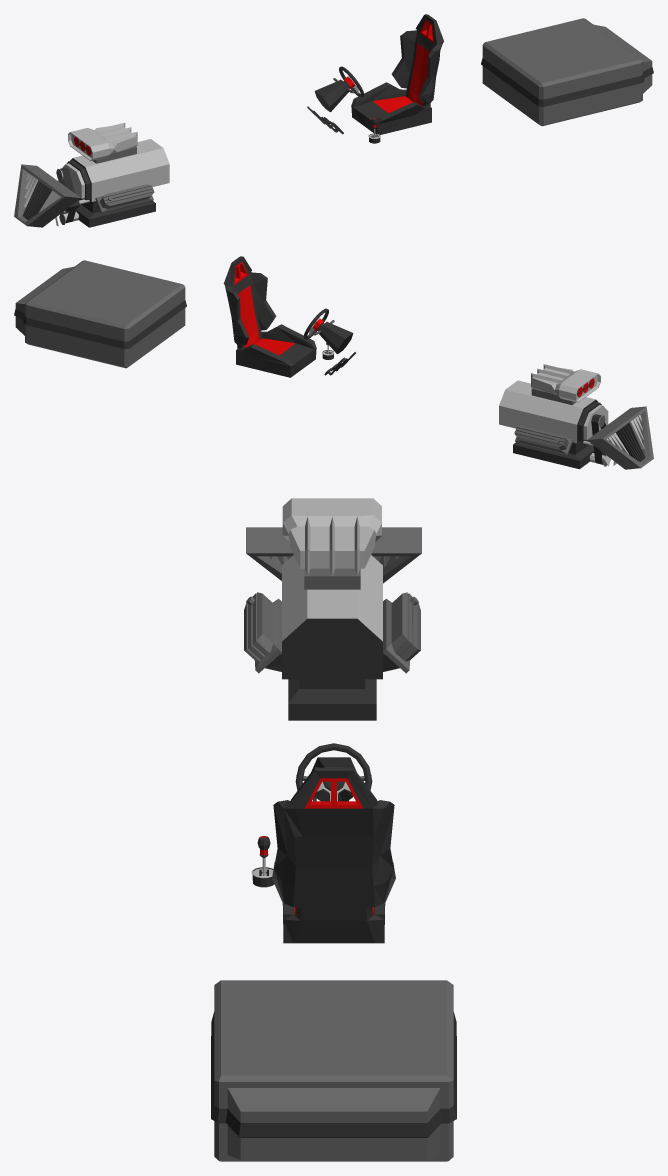
Rendered from car2_parts.obj.
3 renders of one model, top to bottom at view 1: azimuth 30°, elevation 25°; view 2: azimuth 150°, elevation 25°; view 3: azimuth 270°, elevation 25°, orthographic. The views are drawn at different scales.
Parts seen in each view (by area): view 1: tank, engine, seat, radiator, stacks, steering; view 2: tank, engine, seat, radiator, stacks, steering; view 3: tank, engine, seat, stacks, radiator, steering.
Boxes of the visible parts, x1=… form: tank: x1=481, y1=18, x2=653, y2=126; engine: x1=56, y1=139, x2=169, y2=227; seat: x1=351, y1=14, x2=443, y2=134; radiator: x1=14, y1=164, x2=80, y2=227; stacks: x1=68, y1=122, x2=137, y2=163; steering: x1=314, y1=66, x2=364, y2=111; tank: x1=14, y1=260, x2=186, y2=368; engine: x1=499, y1=380, x2=608, y2=469; seat: x1=223, y1=256, x2=316, y2=377; radiator: x1=587, y1=406, x2=653, y2=469; stacks: x1=531, y1=364, x2=600, y2=405; steering: x1=303, y1=308, x2=353, y2=354; tank: x1=211, y1=980, x2=456, y2=1161; engine: x1=244, y1=555, x2=420, y2=720; seat: x1=272, y1=767, x2=395, y2=943; stacks: x1=282, y1=498, x2=381, y2=589; radiator: x1=246, y1=527, x2=421, y2=583; steering: x1=295, y1=743, x2=372, y2=801.
Bounding box in the file's own units: 7.02 × 1.29 × 1.23.
